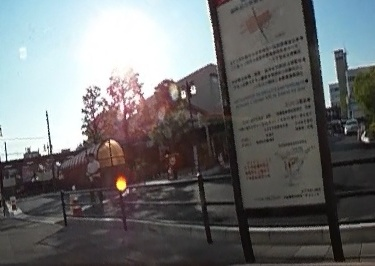person: (85, 150, 104, 201)
